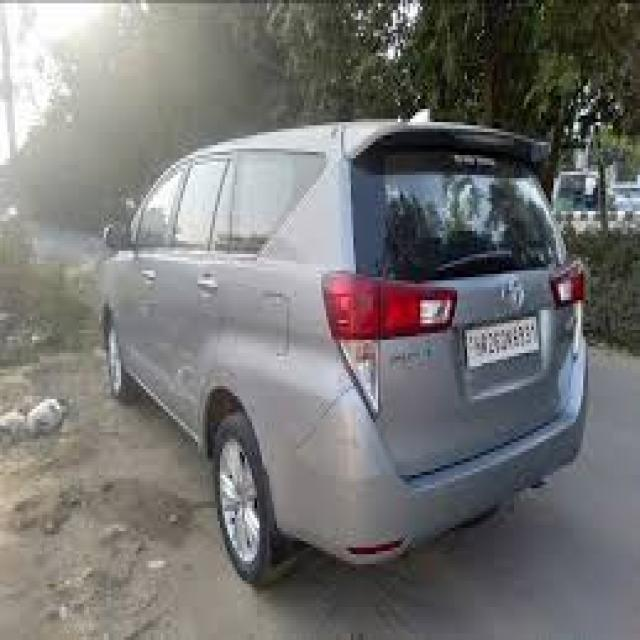Car: (101, 120, 589, 578)
